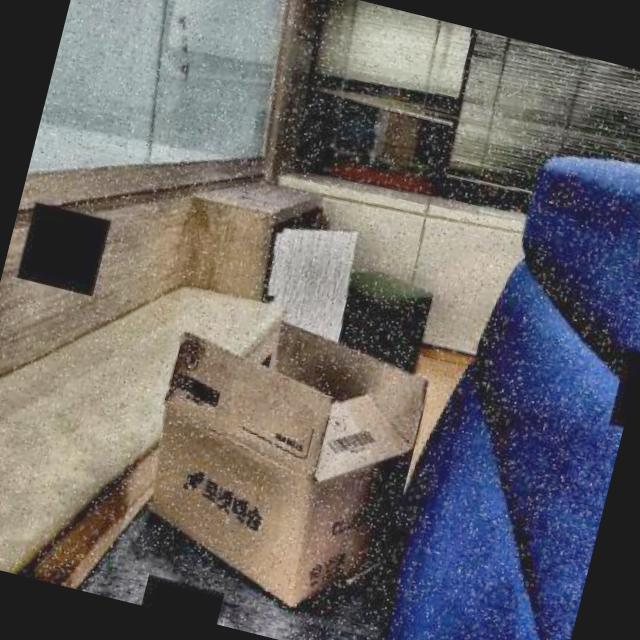box: (110, 287, 467, 640)
